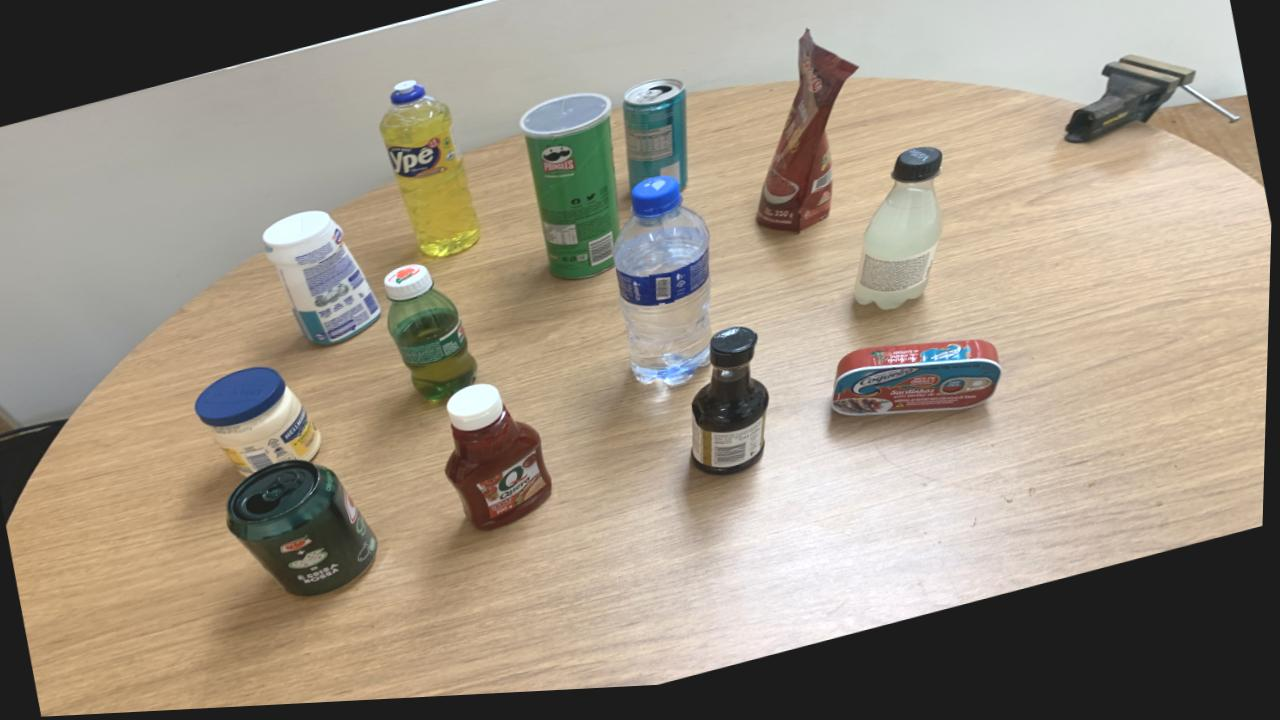Cleaner-Cleanup_Items: (263, 215, 384, 349)
Detergent-Cleanup_Items: (379, 85, 483, 262)
English_Sauce-Pantry_Items: (693, 334, 772, 483)
Guarana-Drinks: (385, 269, 480, 406)
Guarana_Can-Drinks: (229, 463, 381, 600)
Ketchup-Pantry_Items: (447, 388, 555, 536)
Mayonnaise-Pantry_Items: (197, 370, 324, 479)
Pringles-Snacks: (520, 99, 621, 285)
Soda-Drinks: (856, 157, 944, 319)
Tea-Drinks: (623, 85, 689, 195)
Tomato_Sauce-Pantry_Items: (757, 40, 858, 241)
Tuna_Can-Pantry_Items: (832, 349, 1004, 427)
Water_Bottle-Drinks: (614, 183, 713, 393)
